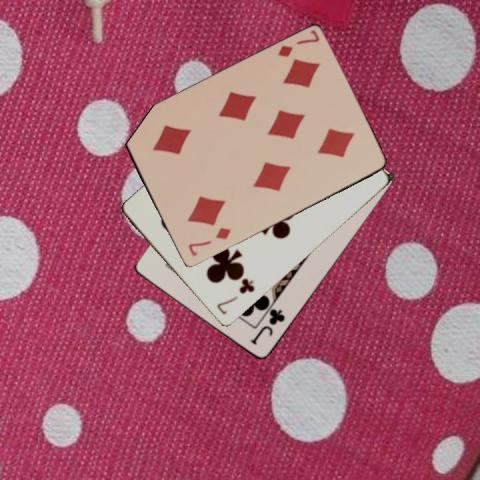7c: (213, 276, 257, 317)
7d: (184, 225, 232, 258), (274, 27, 321, 59)
Jc: (248, 306, 287, 346)
